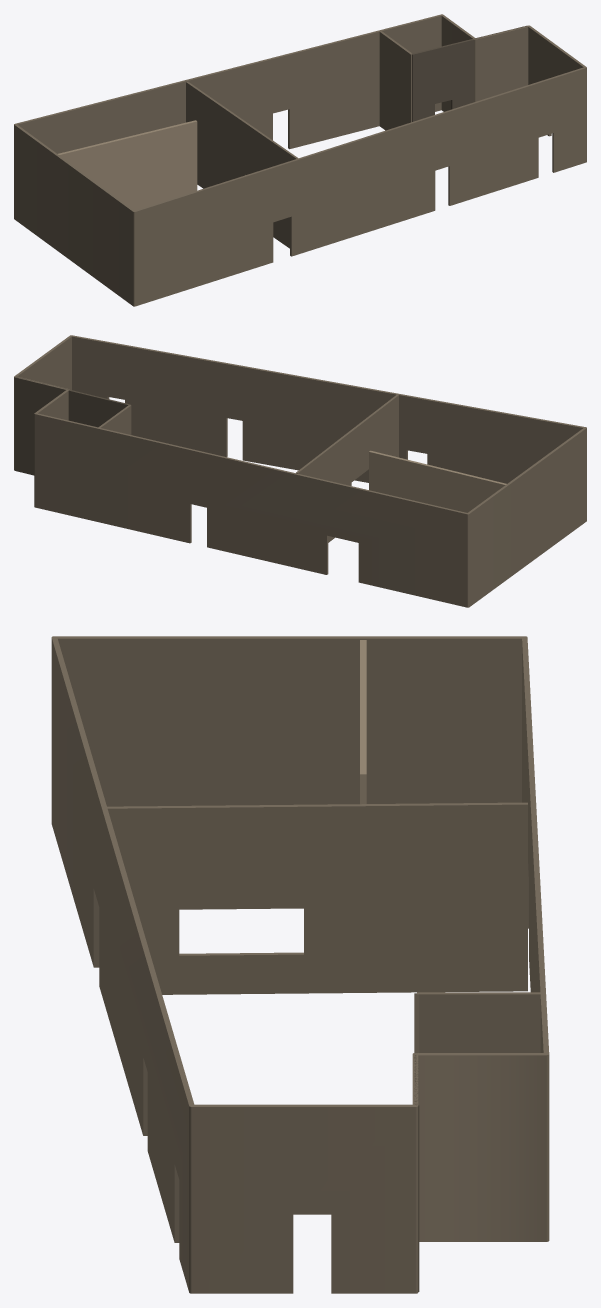
The picture shows the model from 3 angles, top to bottom: view 1: azimuth 30°, elevation 25°; view 2: azimuth 150°, elevation 25°; view 3: azimuth 270°, elevation 25°; orthographic projection. The views are drawn at different scales.
Parts seen in each view (by area): view 1: enclosure; view 2: enclosure; view 3: enclosure.
Boxes of the visible parts, <box> form: enclosure: <box>14,14,586,306</box>; enclosure: <box>14,335,586,607</box>; enclosure: <box>51,636,549,1293</box>.
Bounding box in the file's own units: 30 × 5.55 × 13.4.
